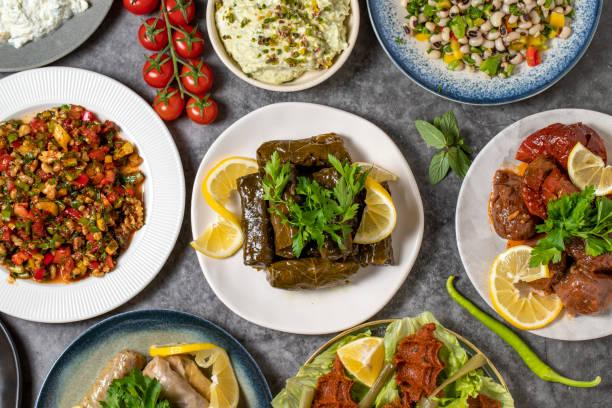Braised Crucian Carp: (191, 101, 421, 333), (4, 65, 186, 321), (453, 108, 611, 343), (364, 0, 599, 107), (206, 0, 358, 91)
